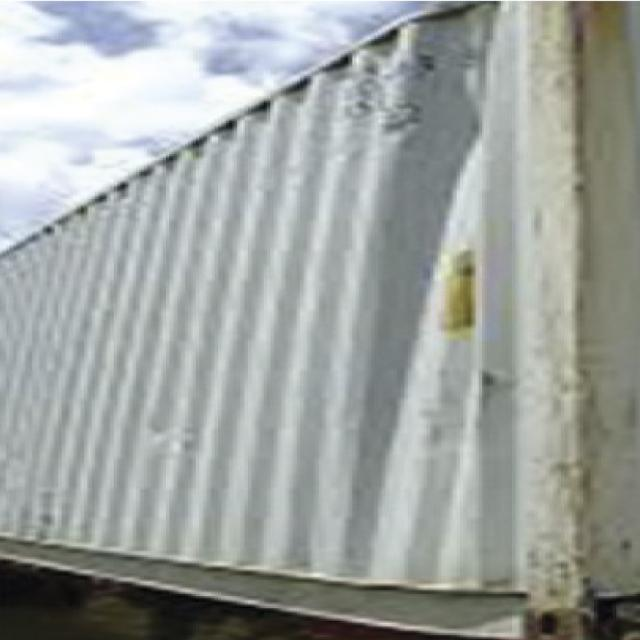dent: (420, 5, 495, 320)
